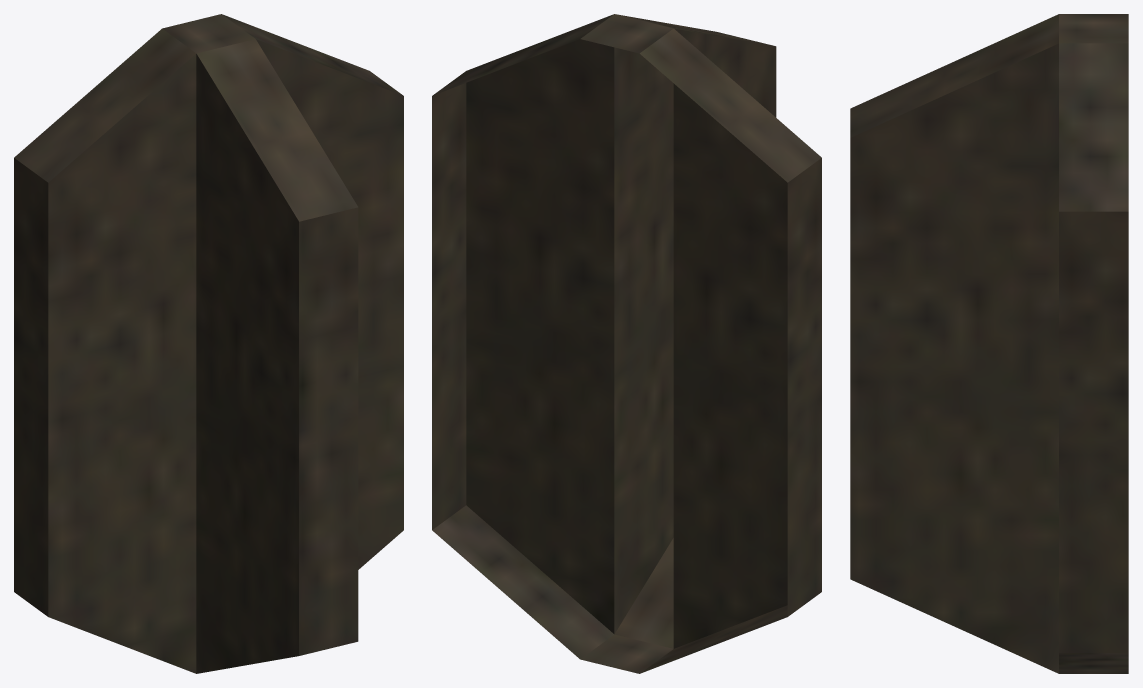
File: wires_holder_hr_small_1.obj
The picture shows the model from 3 angles, left to right: view 1: azimuth 30°, elevation 25°; view 2: azimuth 150°, elevation 25°; view 3: azimuth 270°, elevation 25°; orthographic projection.
Parts seen in each view (by area): view 1: wires_holder_hr_small_1; view 2: wires_holder_hr_small_1; view 3: wires_holder_hr_small_1.
Part boxes in pixels (left/top/right/bottom): wires_holder_hr_small_1: left=14, top=14, right=403, bottom=673; wires_holder_hr_small_1: left=432, top=14, right=821, bottom=673; wires_holder_hr_small_1: left=850, top=14, right=1128, bottom=673.
Size of the model in its own units: 0.12 by 0.2 by 0.08.
